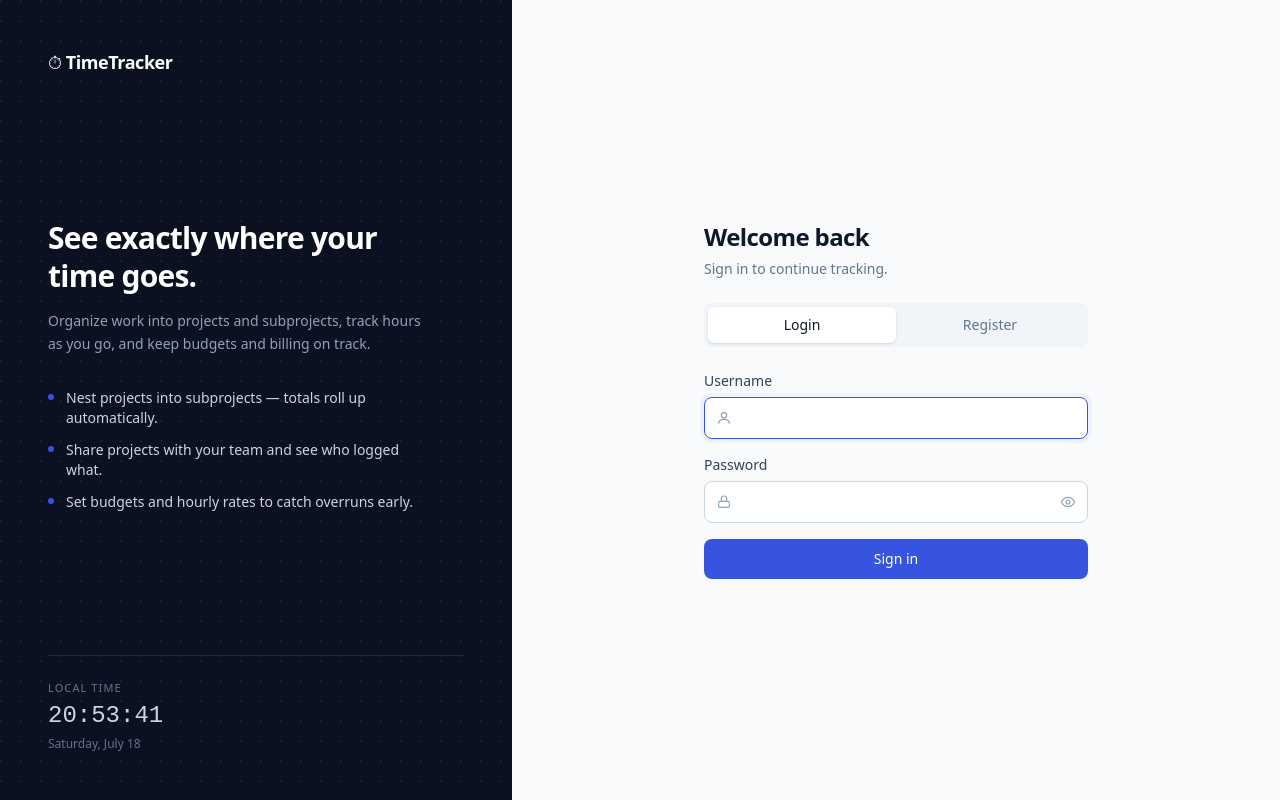
Test: LoginPage › switches back from register to login tab
Click the tab with test id "tab-register" at {"x": 990, "y": 325}, box [896,307,1084,343]
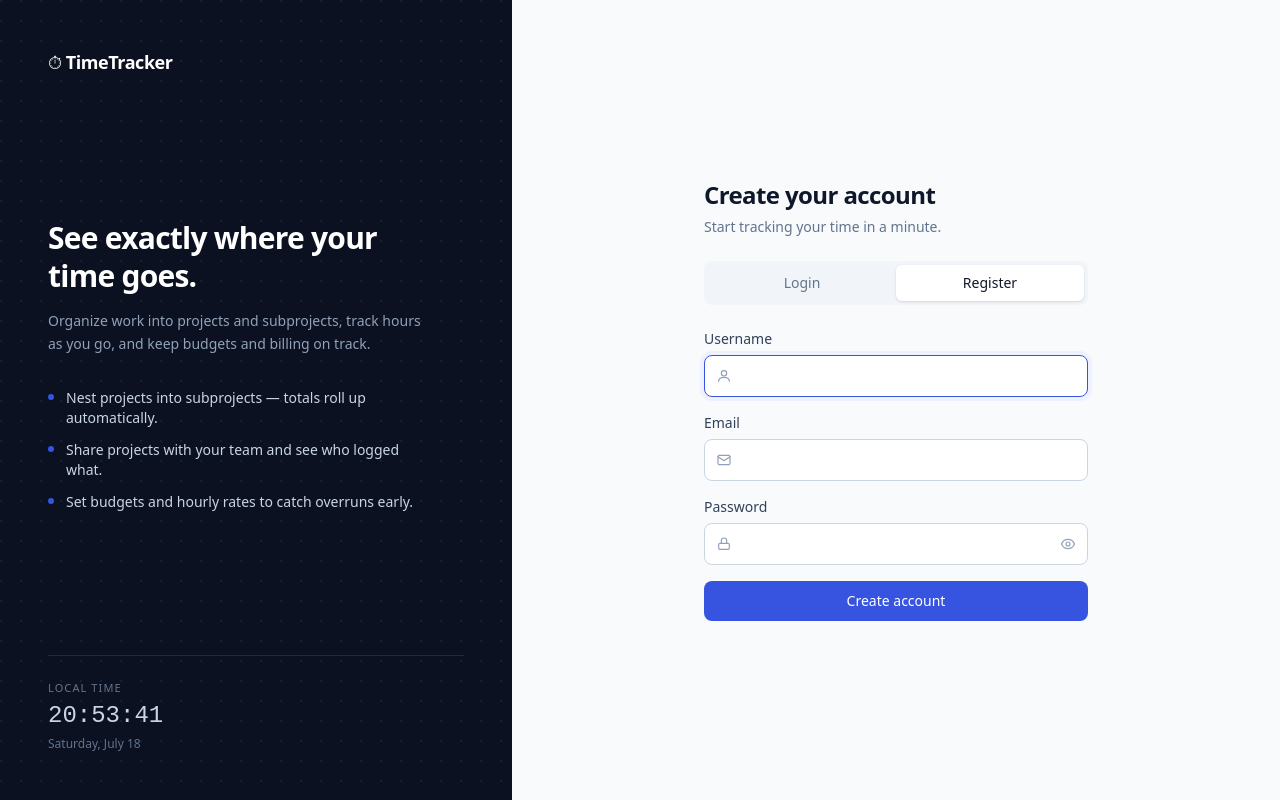
expect the field with test id "input-email" is shown: met, box [704,439,1088,481]
Click the tab with test id "tab-login" at {"x": 802, "y": 283}, box [708,265,896,301]
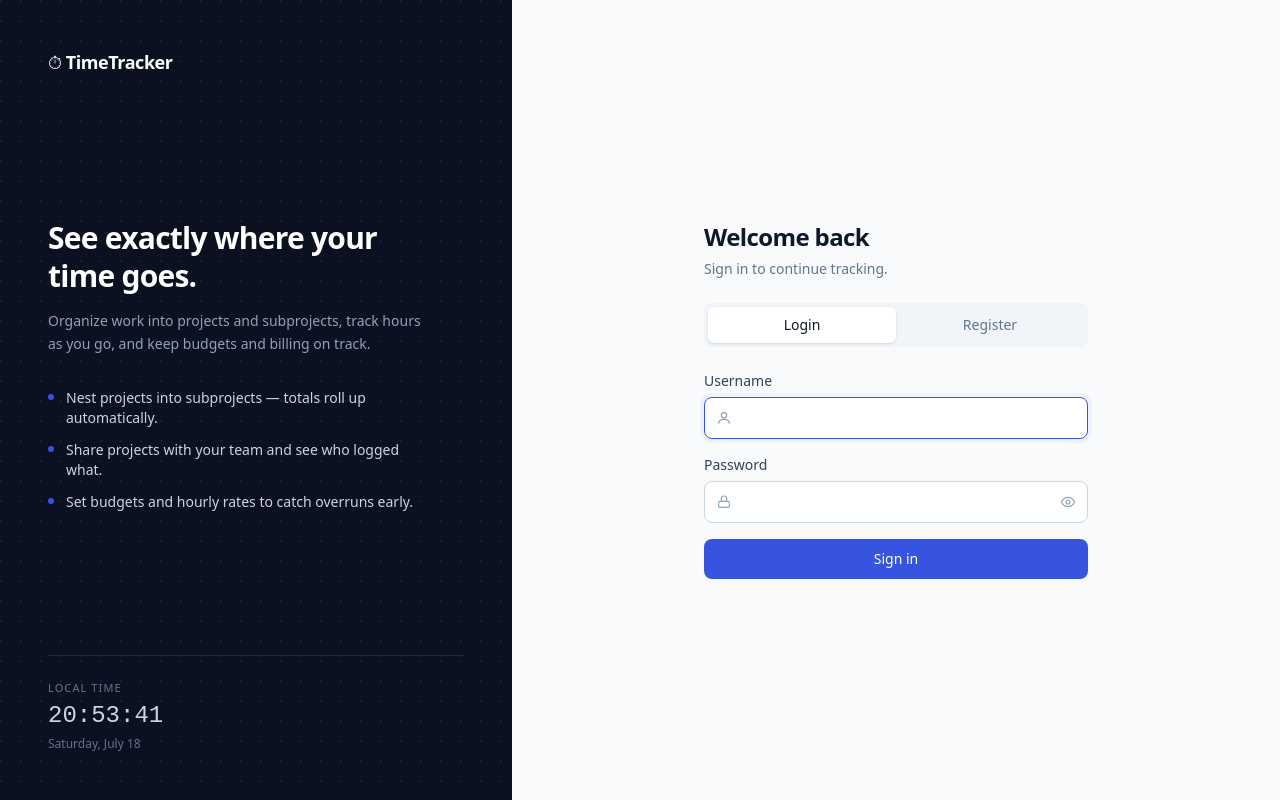
expect the field with test id "input-email" is gone: met
